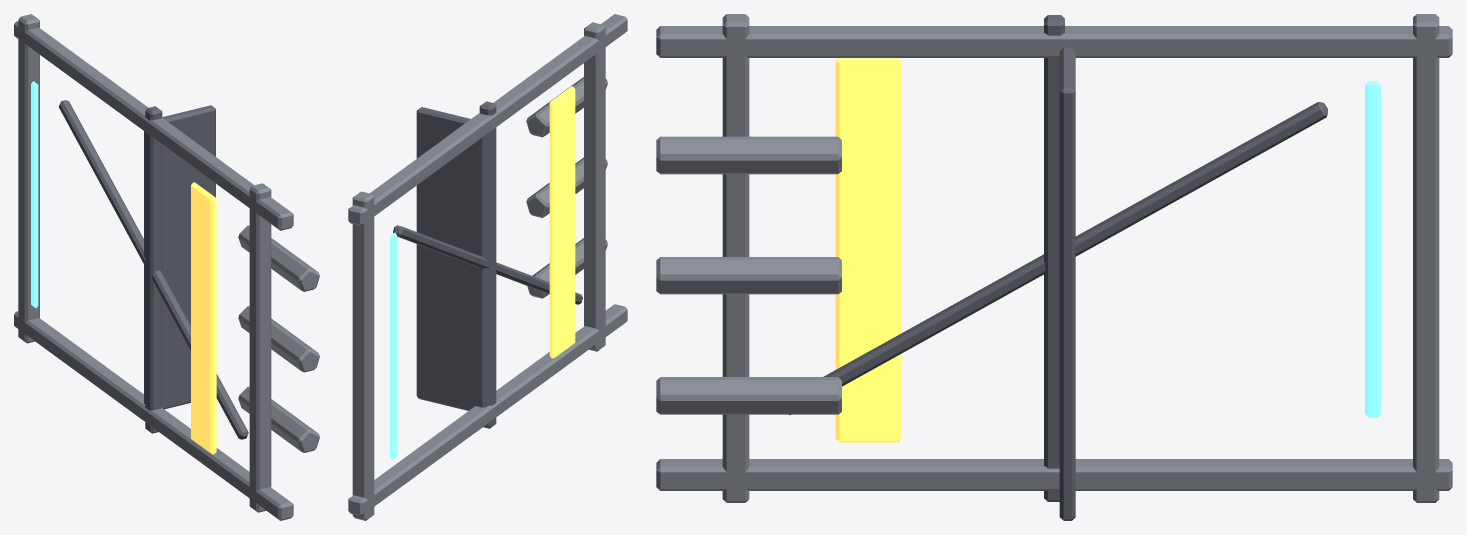
File: edge_scaffold.glb
The picture shows the model from 3 angles, left to right: view 1: azimuth 30°, elevation 25°; view 2: azimuth 150°, elevation 25°; view 3: azimuth 270°, elevation 25°; orthographic projection. The views are drawn at different scales.
Visible parts, largest first — view 1: EdgeScaffold; view 2: EdgeScaffold; view 3: EdgeScaffold.
Part boxes in pixels (x1,y1,x2,y2): EdgeScaffold: (14, 14, 319, 520); EdgeScaffold: (348, 14, 627, 520); EdgeScaffold: (656, 14, 1452, 520).
Bounding box in the file's own units: 0.525 × 2 × 3.
